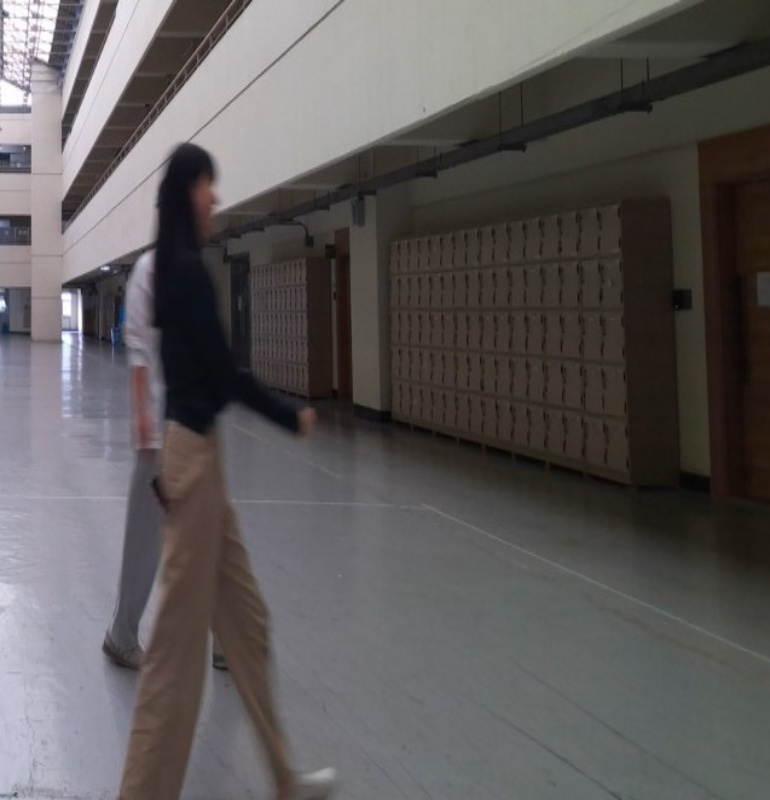person: (116, 141, 341, 800)
